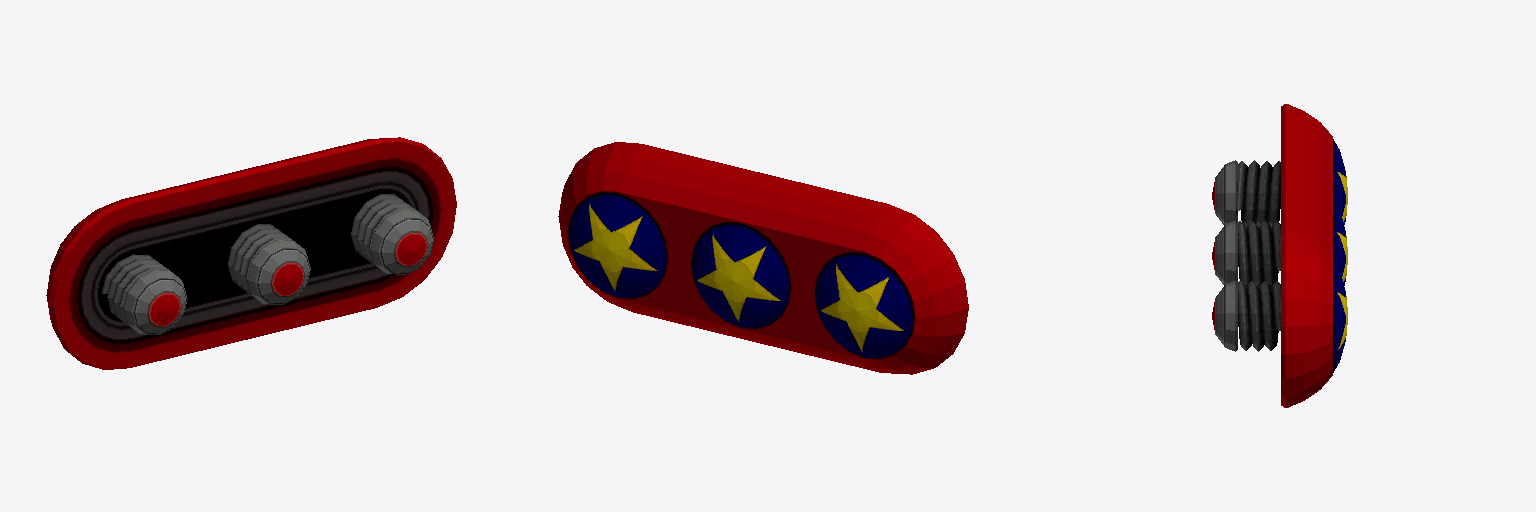
3 views of the same model, side by side, from view 1: azimuth 30°, elevation 25°; view 2: azimuth 150°, elevation 25°; view 3: azimuth 270°, elevation 25° (orthographic).
Visible parts, largest first — view 1: cmn_obj_widespring_cmn_obj_spring_mesh.003; view 2: cmn_obj_widespring_cmn_obj_spring_mesh.003; view 3: cmn_obj_widespring_cmn_obj_spring_mesh.003.
Boxes of the visible parts, box(x1,y1,x2,y2) form: cmn_obj_widespring_cmn_obj_spring_mesh.003: box(46, 137, 456, 369); cmn_obj_widespring_cmn_obj_spring_mesh.003: box(558, 142, 968, 374); cmn_obj_widespring_cmn_obj_spring_mesh.003: box(1212, 104, 1347, 407).
Size of the model in its own units: 3.89 by 1.54 by 1.13.
2 materials, 2 textured.